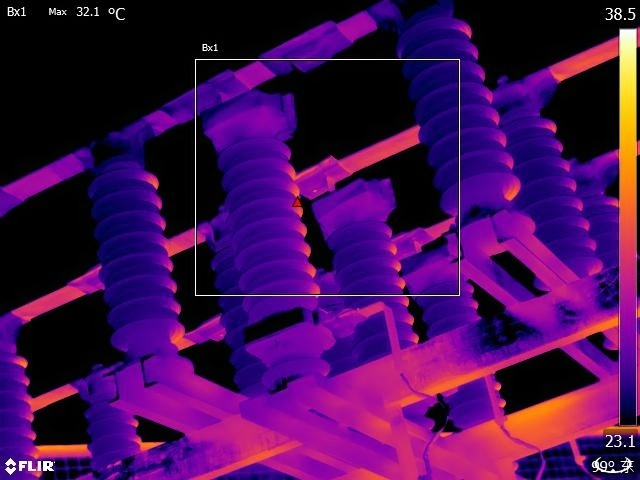post insulator: (390, 12, 523, 209), (205, 96, 324, 309), (78, 155, 189, 348), (504, 110, 603, 280), (420, 275, 508, 421), (328, 220, 419, 355), (1, 333, 43, 478), (83, 377, 146, 458)
